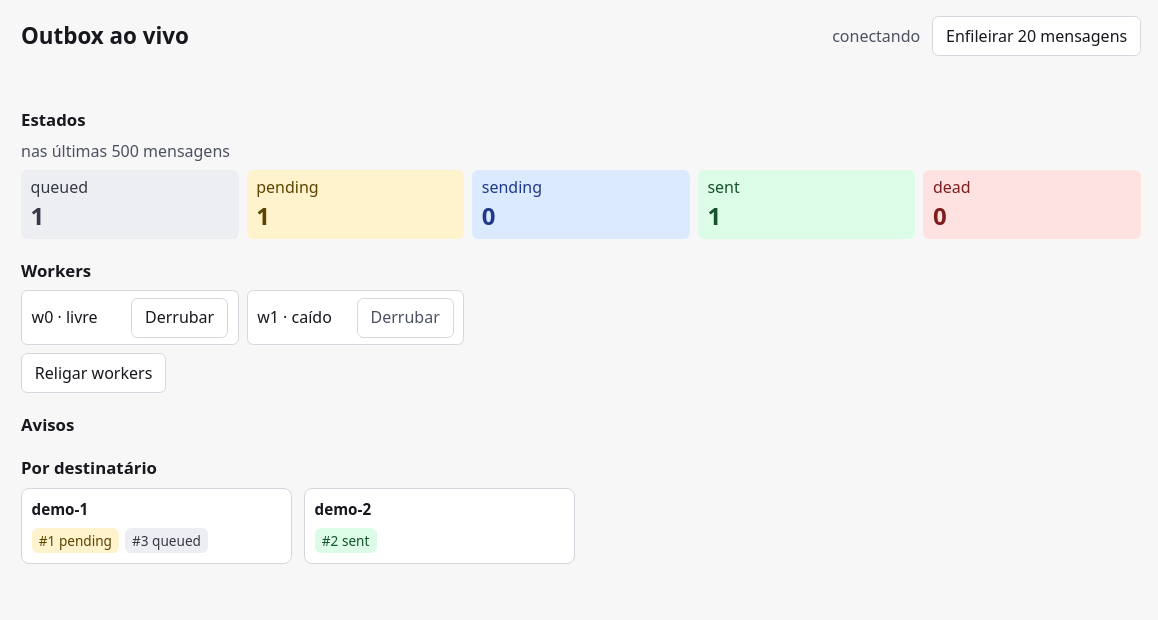
Test case: App › avisa quando religar falha
Click the button "Religar workers" at {"x": 94, "y": 373}, box [21, 353, 166, 393]
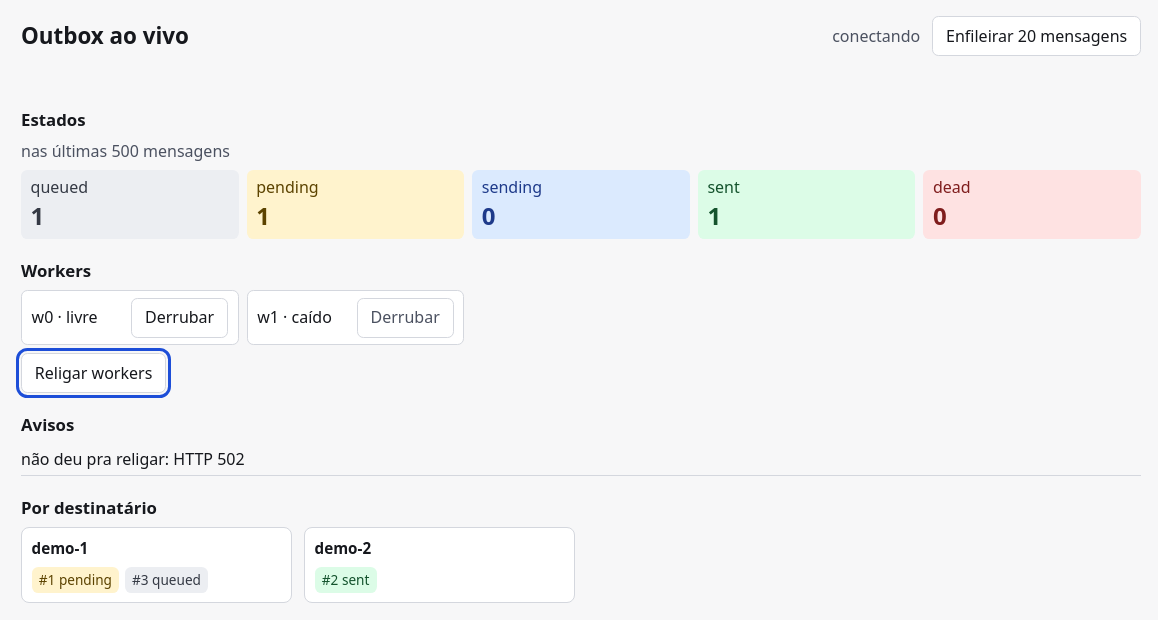
Expected: the list "não deu pra religar: HTTP 502" is shown, [21, 444, 1141, 476]
